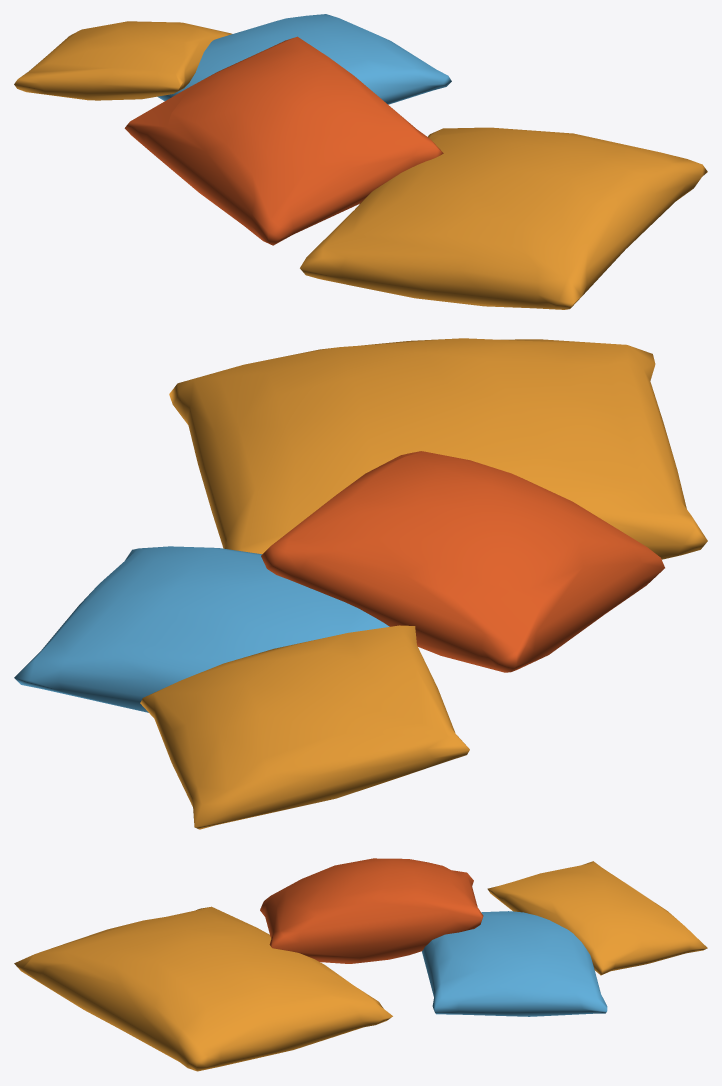
File: cuscini_LOD2.fbx
3 views of the same model, one above another, from view 1: azimuth 30°, elevation 25°; view 2: azimuth 150°, elevation 25°; view 3: azimuth 270°, elevation 25° (orthographic). The views are drawn at different scales.
Parts seen in each view (by area): view 1: Cushion; view 2: Cushion; view 3: Cushion.
Boxes of the visible parts, bbox=[...] form: Cushion: bbox=[14, 14, 707, 309]; Cushion: bbox=[14, 338, 707, 829]; Cushion: bbox=[14, 858, 707, 1071].
Size of the model in its own units: 405 by 115 by 639.
